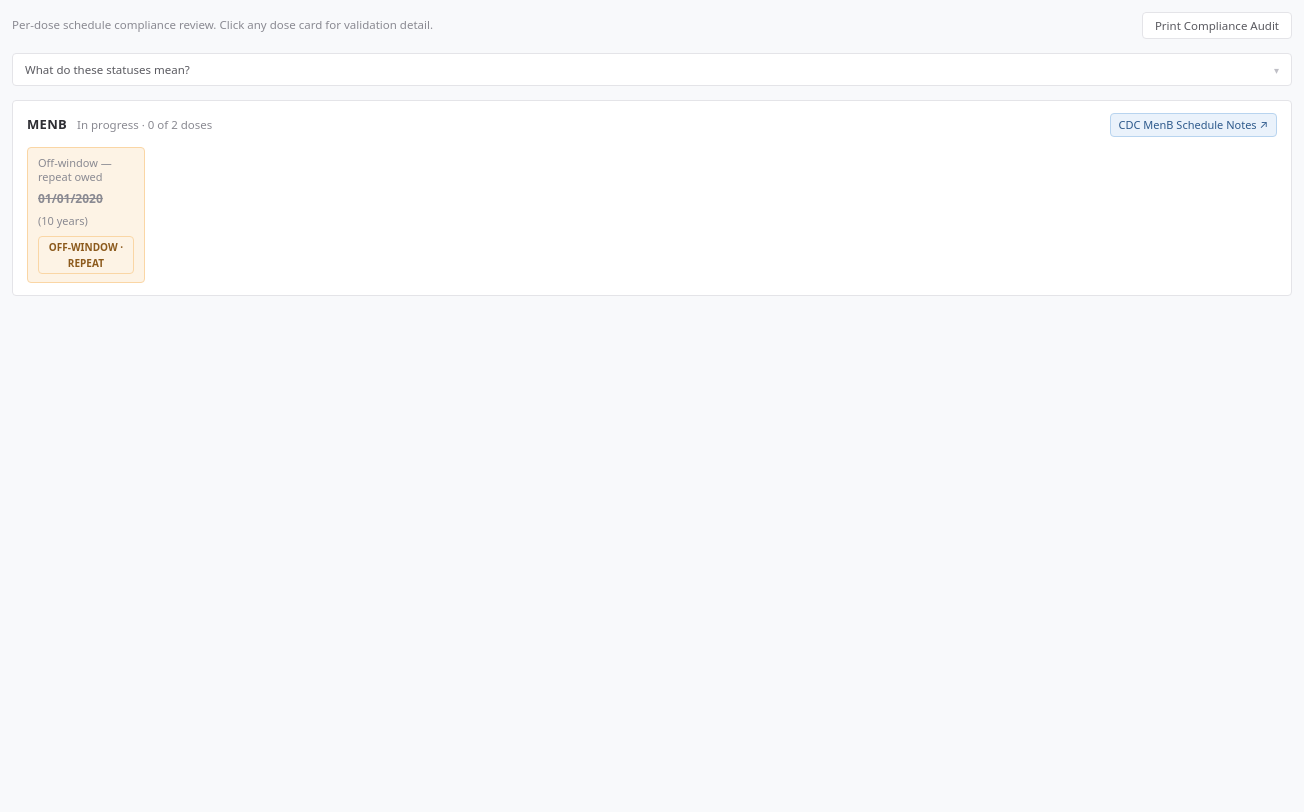
M1: healthy MenB dose before age 16 does not count toward series completion › the age-10 dose card shows a "does not count" explanation, not a false completion
This screenshot has width=1304, height=812.
Click the element with test id "dose-card-MenB-". click: {"x": 86, "y": 215}
box: [27,147,145,283]
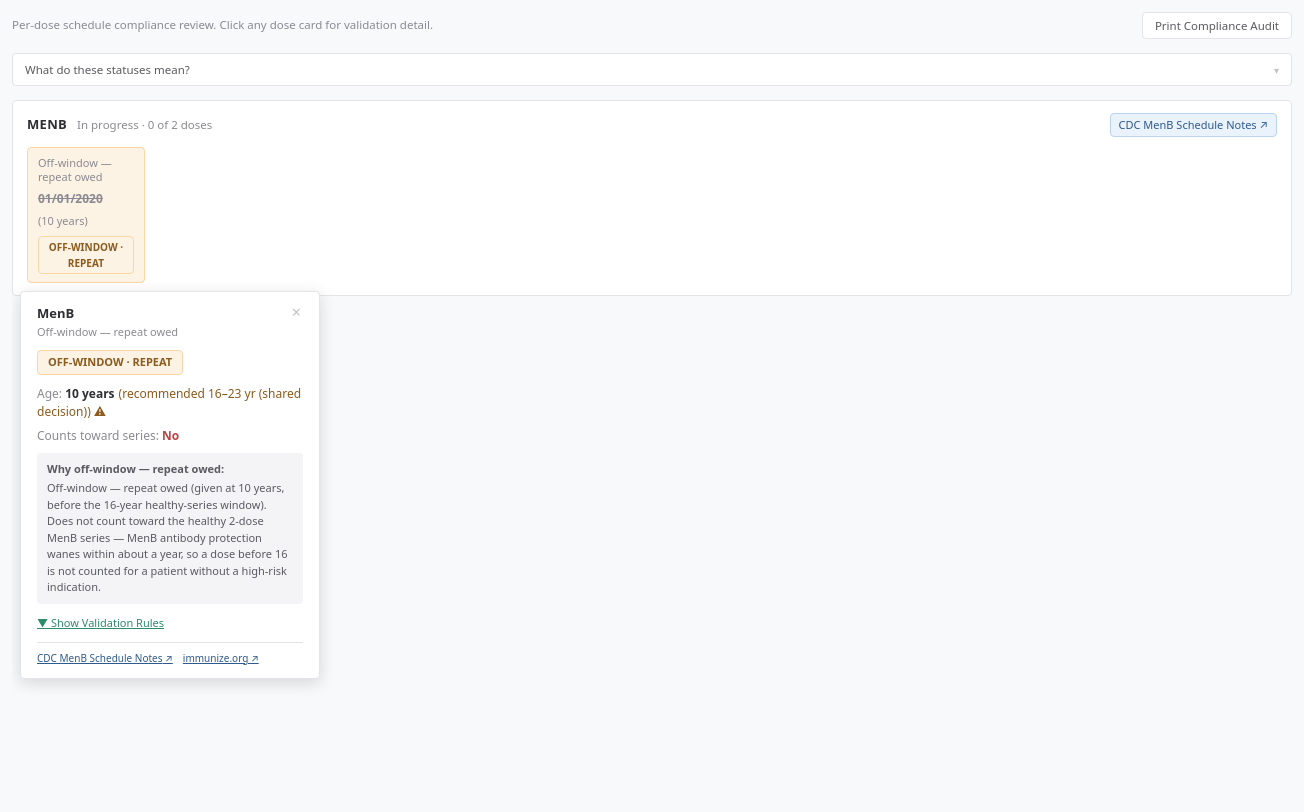
Check: the element with test id "dose-compliance-popover" is shown, box [20,291,320,679]
Check: the element with test id "dose-compliance-popover" shows "does not count toward the healthy", box [47,480,288,594]
